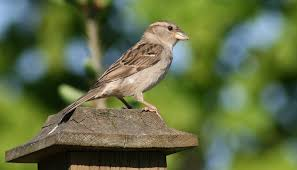hsparrow: (45, 18, 193, 124)
